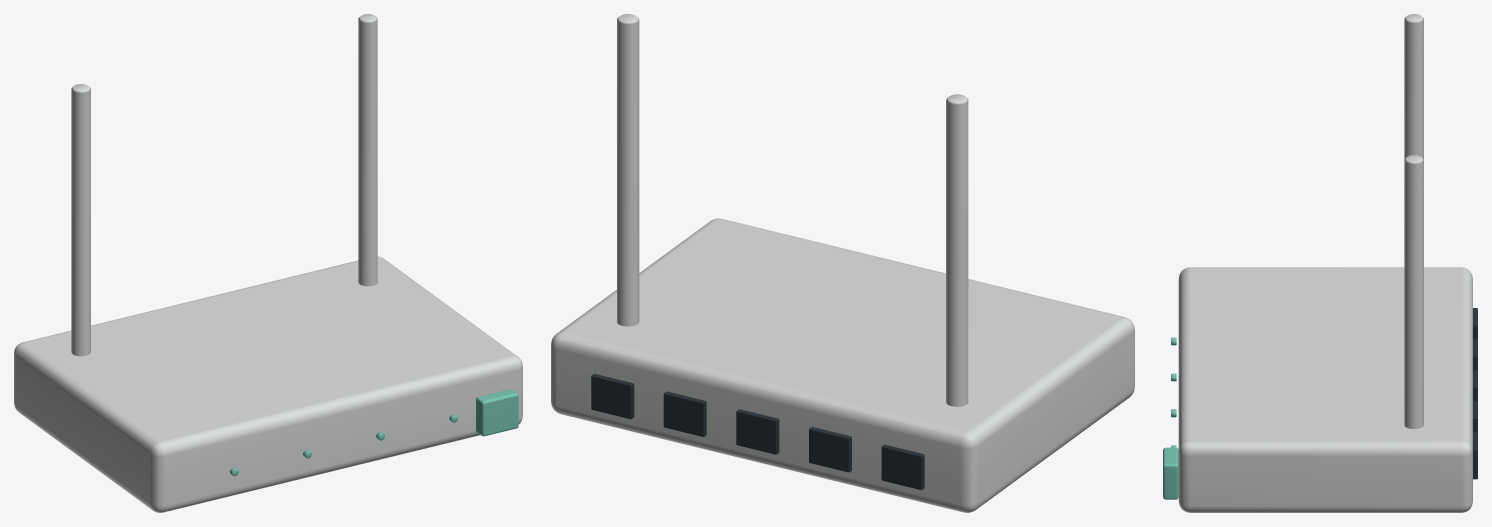
The model's file is network_router.glb.
3 views of the same model, side by side, from view 1: azimuth 30°, elevation 25°; view 2: azimuth 150°, elevation 25°; view 3: azimuth 270°, elevation 25° (orthographic). The views are drawn at different scales.
Visible parts, largest first — view 1: Router_Case, Router_Antenna-0.085, Router_Antenna0.085, Router_Power_Cap; view 2: Router_Case, Router_Antenna0.085, Router_Antenna-0.085, LAN_Port0.0, LAN_Port-0.075, LAN_Port0.075, LAN_Port0.03749999999999999, LAN_Port-0.0375; view 3: Router_Case, Router_Antenna0.085, Router_Antenna-0.085, Router_Power_Cap.
Part boxes in pixels (left/top/right/bottom): Router_Case: left=14, top=256, right=522, bottom=512; Router_Antenna-0.085: left=71, top=84, right=90, bottom=356; Router_Antenna0.085: left=358, top=14, right=377, bottom=286; Router_Power_Cap: left=476, top=389, right=518, bottom=436; Router_Case: left=551, top=218, right=1134, bottom=512; Router_Antenna0.085: left=617, top=14, right=639, bottom=326; Router_Antenna-0.085: left=946, top=94, right=968, bottom=406; LAN_Port0.0: left=736, top=409, right=779, bottom=454; LAN_Port-0.075: left=881, top=444, right=924, bottom=490; LAN_Port0.075: left=591, top=373, right=634, bottom=419; LAN_Port0.03749999999999999: left=663, top=391, right=706, bottom=436; LAN_Port-0.0375: left=809, top=427, right=851, bottom=472; Router_Case: left=1178, top=267, right=1472, bottom=512; Router_Antenna0.085: left=1404, top=155, right=1423, bottom=429; Router_Antenna-0.085: left=1404, top=14, right=1423, bottom=159; Router_Power_Cap: left=1163, top=447, right=1178, bottom=499.
Bounding box in the file's own units: 0.22 × 0.19 × 0.1605.
